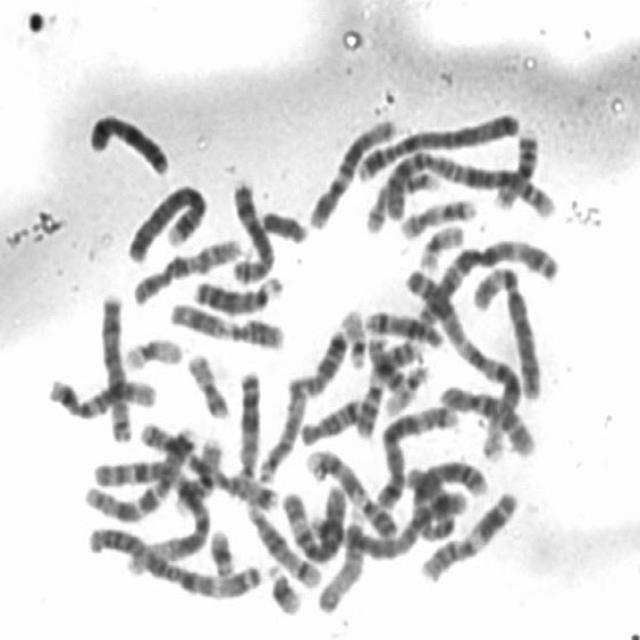A1: (402, 260, 533, 460), (88, 448, 214, 570)
A2: (373, 144, 560, 223), (405, 452, 493, 544)
A3: (411, 232, 563, 331), (84, 520, 264, 601)
B4: (352, 106, 523, 182), (122, 177, 210, 265)
B5: (135, 414, 284, 514), (371, 398, 462, 512)
C10: (129, 232, 245, 306), (434, 380, 536, 457)
C11: (414, 484, 521, 584), (165, 294, 288, 350)
C12: (306, 111, 400, 230), (42, 368, 160, 422)
C6: (468, 258, 546, 402), (278, 479, 350, 564)
C7: (135, 414, 284, 514), (80, 418, 198, 524)
C8: (93, 286, 133, 444), (226, 174, 277, 287)
C9: (300, 443, 398, 541), (351, 334, 423, 441)
D13: (189, 269, 285, 316), (232, 362, 264, 484)
D14: (243, 496, 323, 589), (360, 303, 446, 348)
D15: (313, 506, 369, 617), (254, 383, 310, 483)
E16: (487, 122, 540, 211), (172, 432, 227, 516)
E17: (362, 166, 443, 233), (396, 191, 480, 241)
E18: (293, 325, 349, 398), (296, 391, 366, 447)
F19: (413, 218, 466, 273), (120, 330, 185, 372)
F20: (182, 346, 232, 420), (363, 331, 410, 392)
G21: (263, 557, 304, 617), (204, 522, 238, 580)
G22: (379, 358, 432, 417), (336, 302, 370, 371)
X: (83, 105, 172, 178)
Y: (256, 202, 311, 245)
